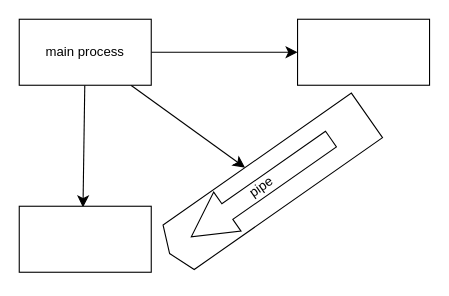
The diagram is 449 pixels wide and 296 high, and some of its shapes have lost their labels. Each missing label, with the box of its shape:
grep: (18, 205, 151, 272)
Ping: (296, 18, 430, 85)
